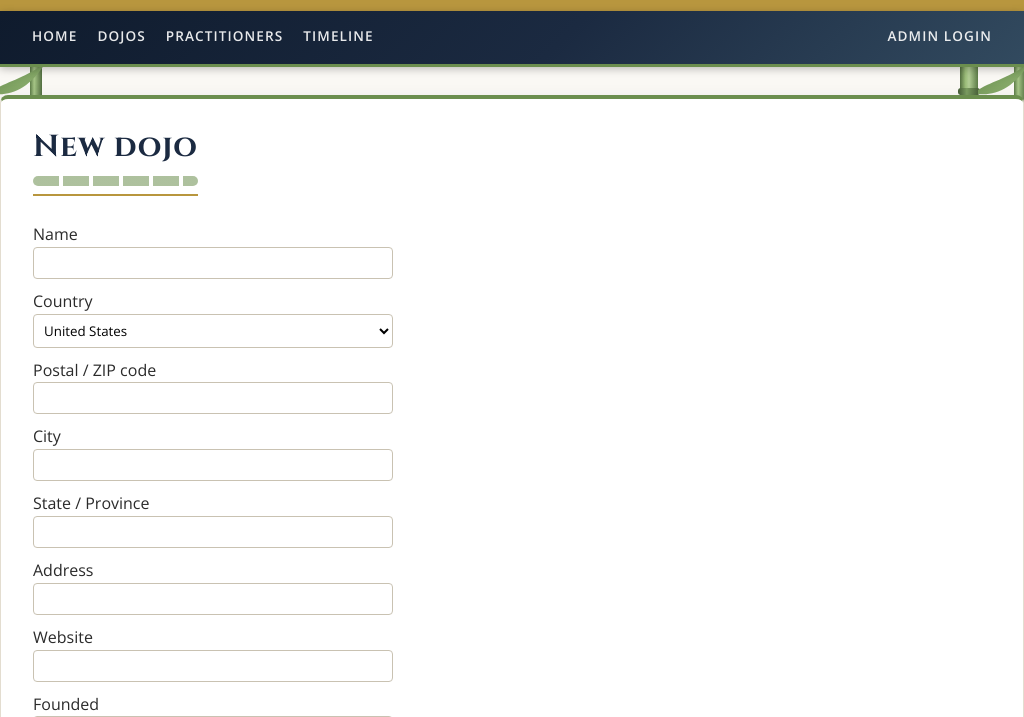
Scenario: shows a pending-approval notice when an edit is queued
The width and height of the screenshot is (1024, 717).
Type "New Dojo" into the field labelled "Name" at (213, 263), box [33,247,393,279]
(page scrolled)
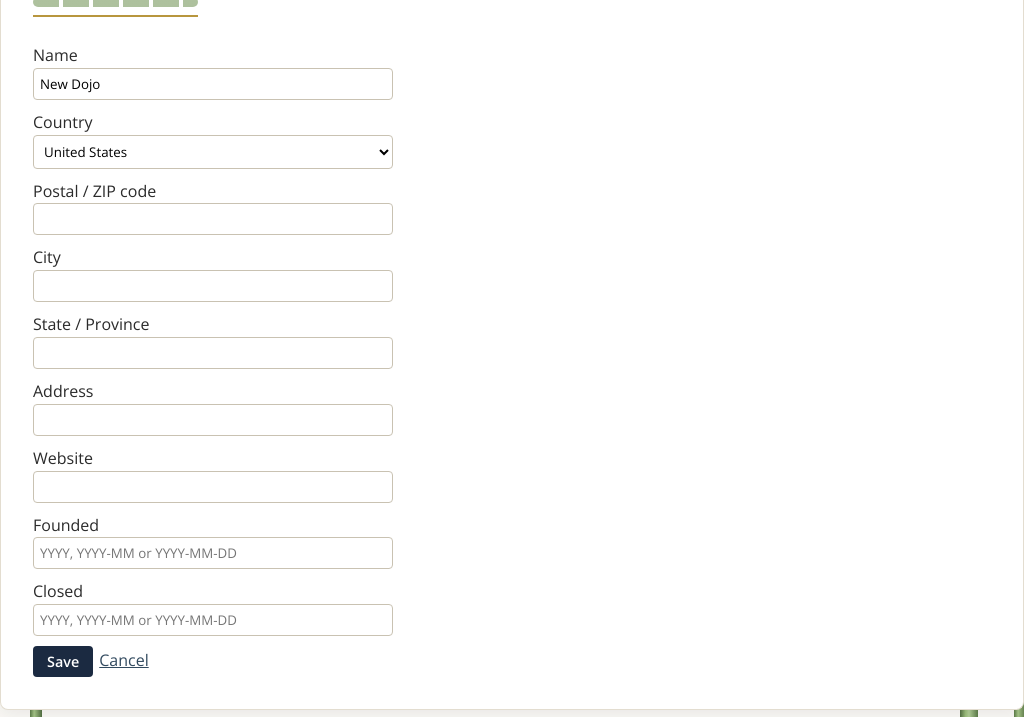
Click the button "Save" at (63, 662), box [33,646,93,678]
(page scrolled)
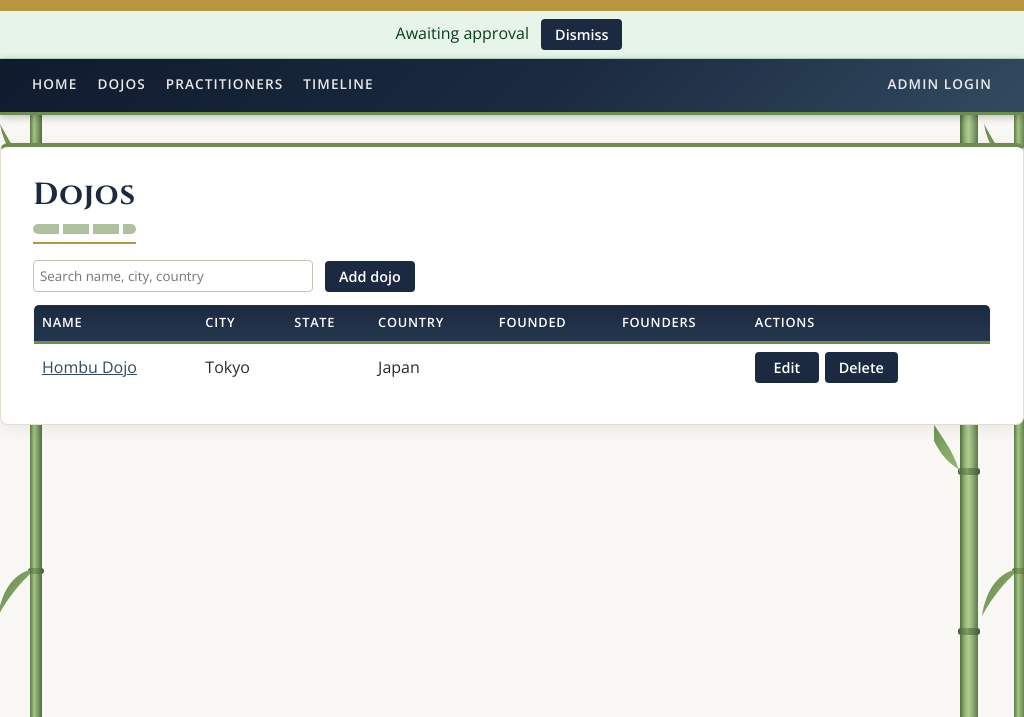
Expected: the text "Awaiting approval Dismiss" is shown, [0,11,1023,59]
